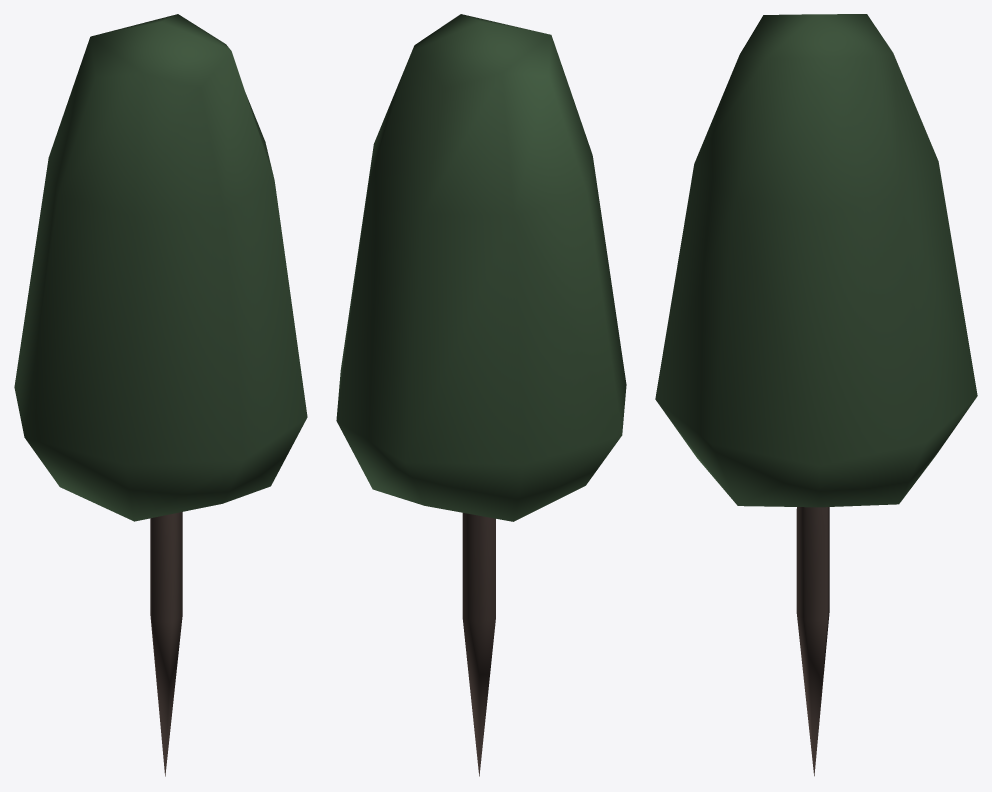
The model's file is trees-broadleaf-trees-poplar-tree_v1.glb.
The picture shows the model from 3 angles, left to right: view 1: azimuth 30°, elevation 25°; view 2: azimuth 150°, elevation 25°; view 3: azimuth 270°, elevation 25°; orthographic projection.
Visible parts, largest first — view 1: Poplar Tree; view 2: Poplar Tree; view 3: Poplar Tree.
Boxes of the visible parts, bbox=[...] form: Poplar Tree: bbox=[14, 14, 307, 776]; Poplar Tree: bbox=[336, 14, 626, 776]; Poplar Tree: bbox=[655, 14, 977, 776].
Size of the model in its own units: 5.75 by 15 by 5.75.
